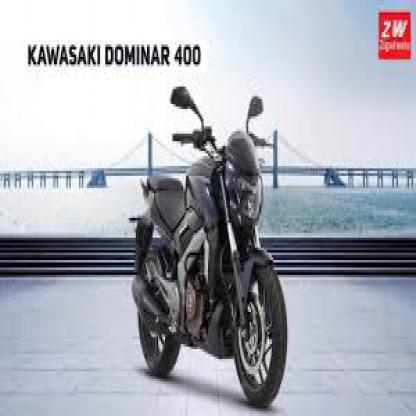Motorcycle: (133, 82, 290, 406)
